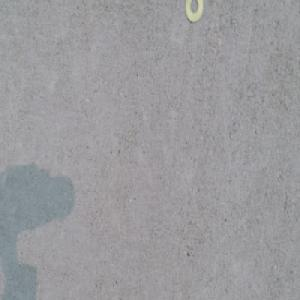Washer: (184, 0, 203, 22)
